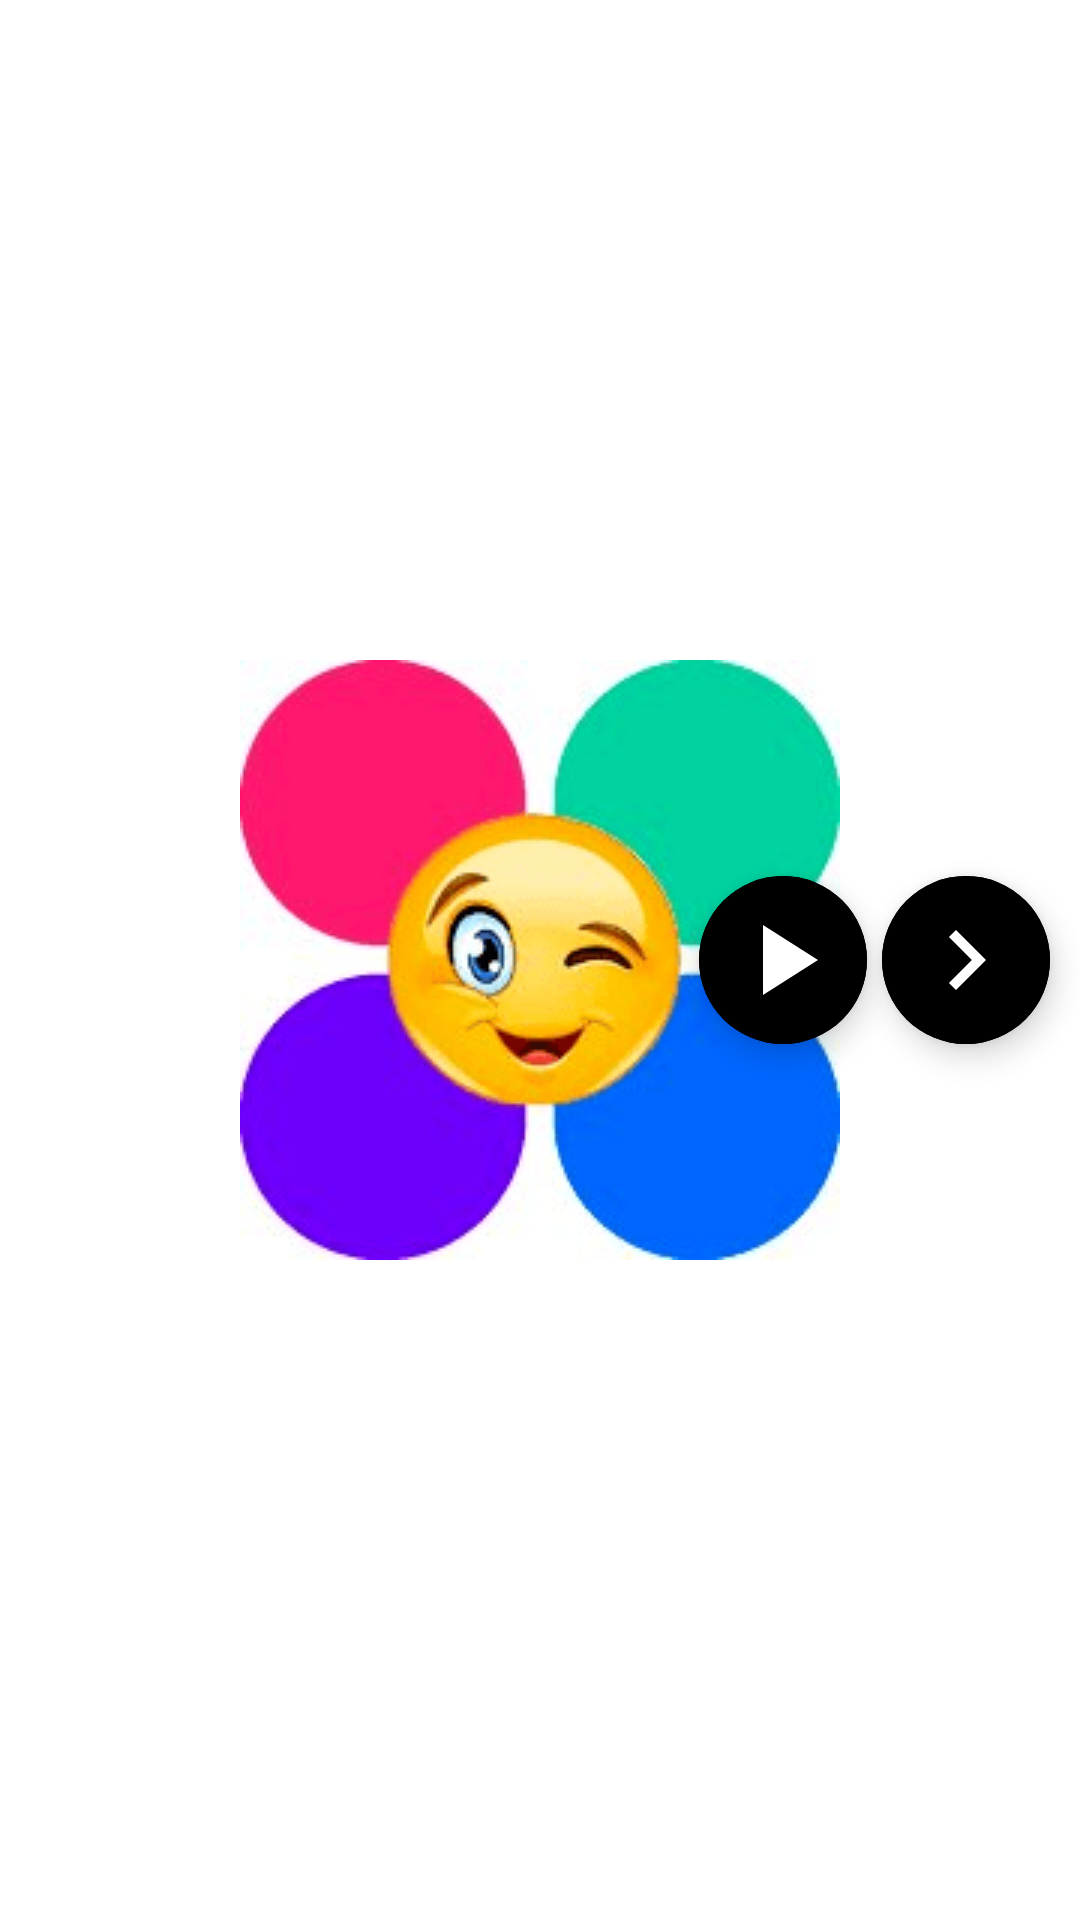

Where to tap for icons on this 1080 × 1920 app screen, as point (x, y):
next: point (966, 960)
play: point (783, 960)
